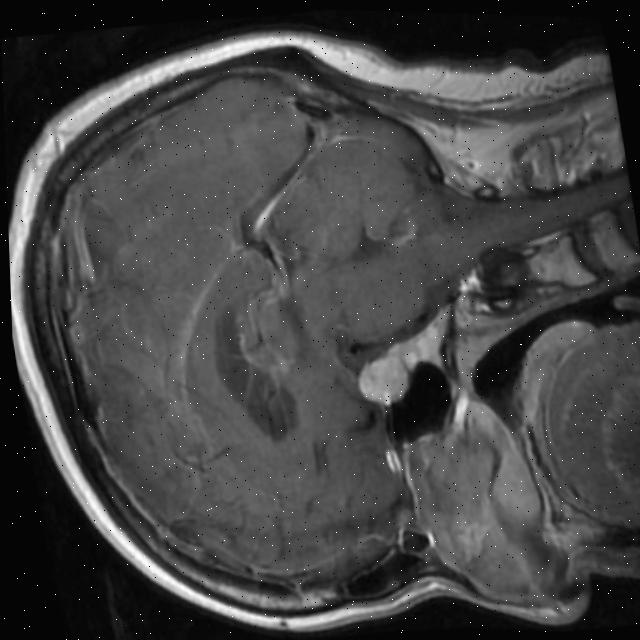Pituitary: (351, 350, 423, 409)
